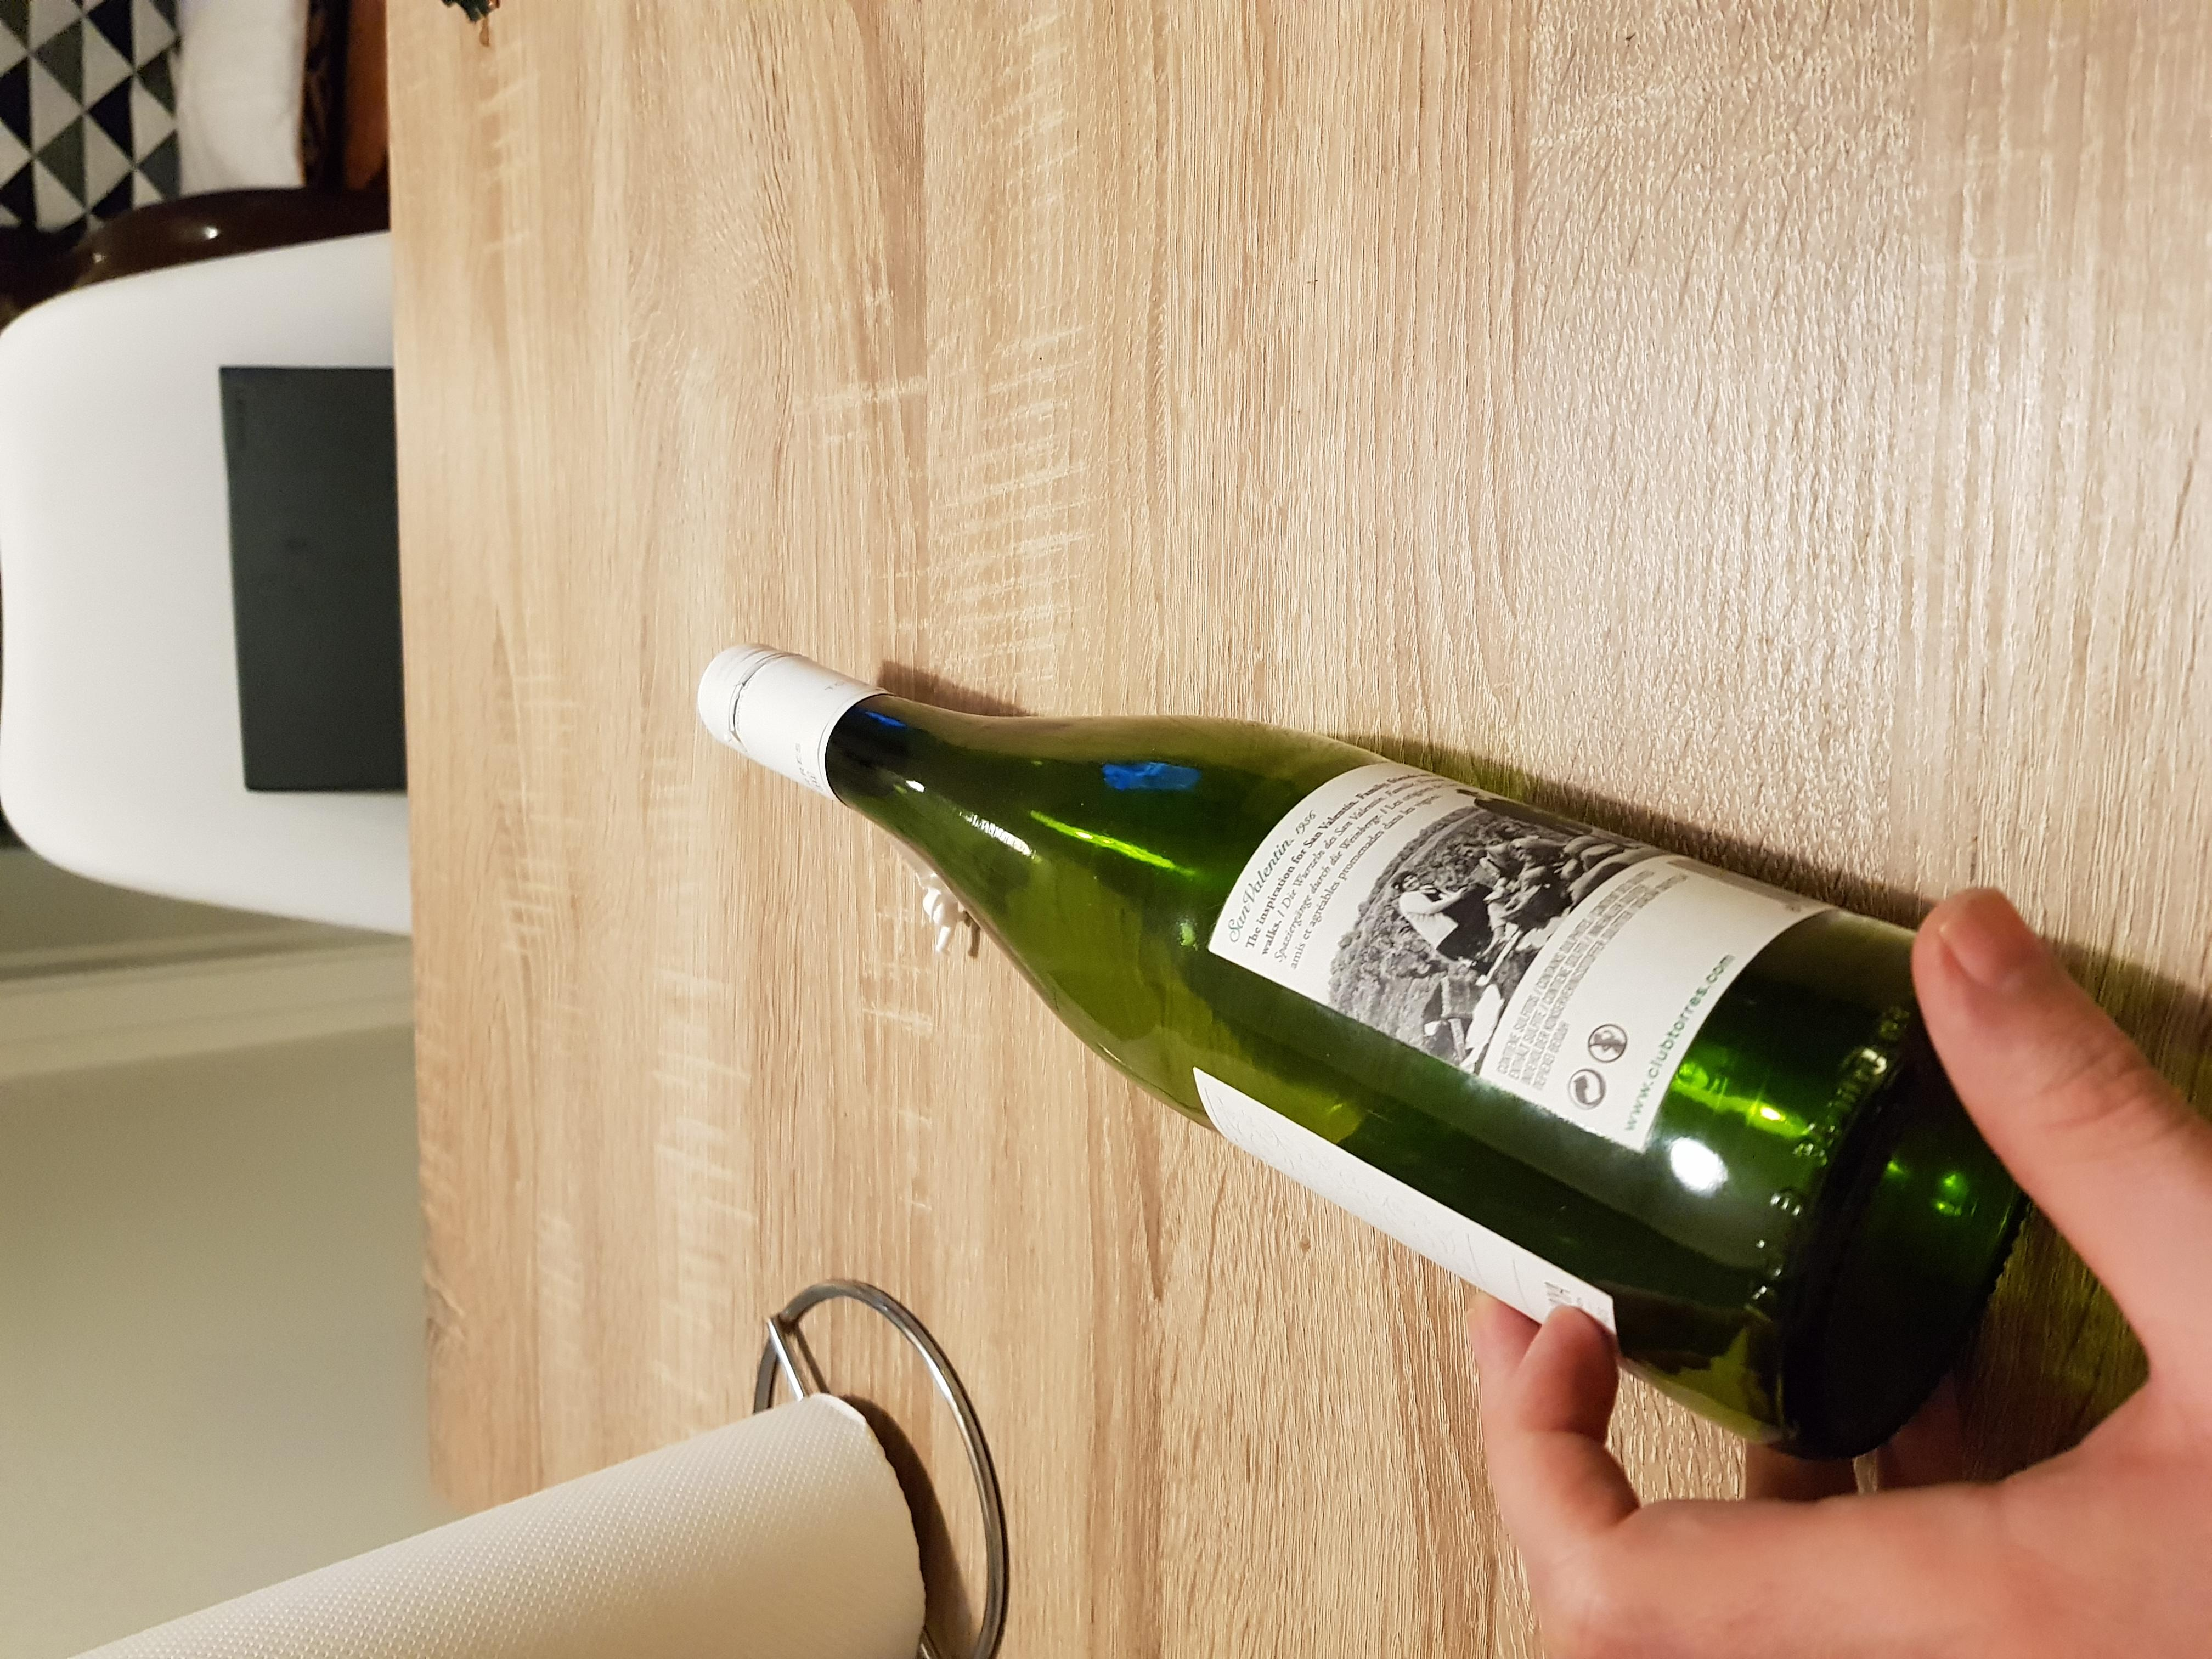Bottle: (691, 633, 2029, 1453)
